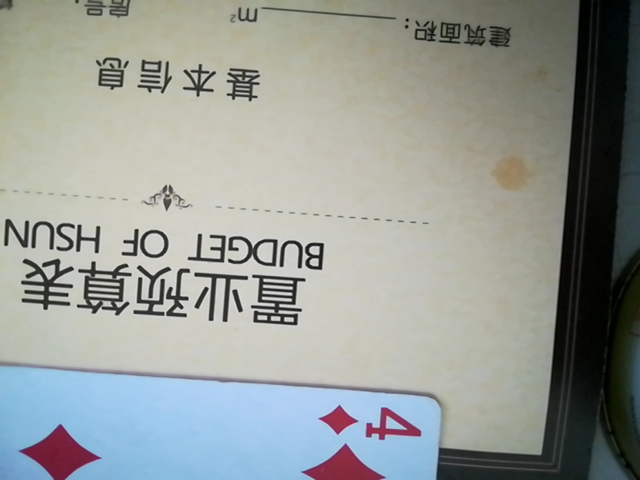fk 4: (0, 351, 462, 480)
